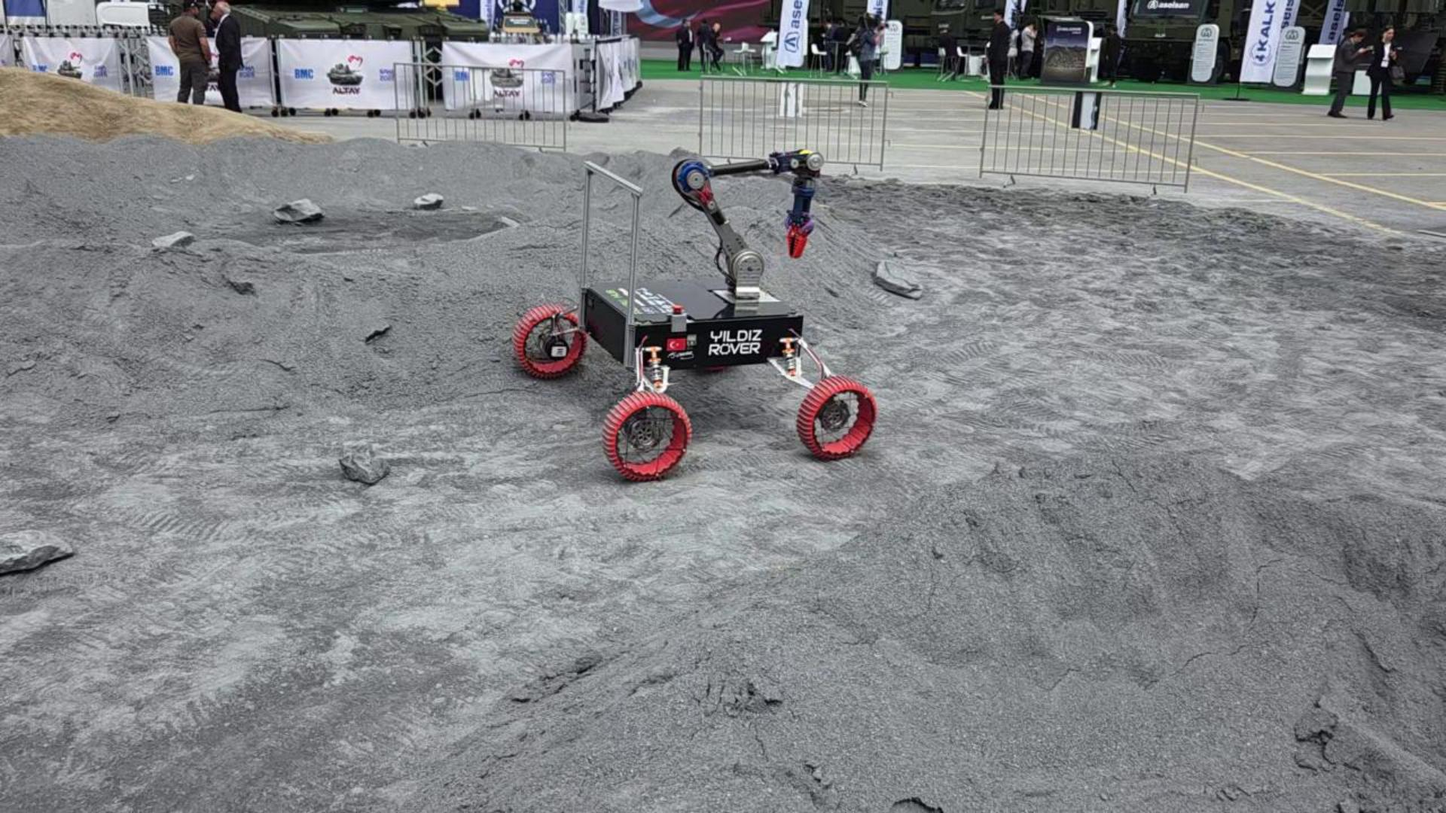rock: (0, 530, 72, 574), (339, 442, 389, 484), (873, 259, 922, 298), (272, 199, 323, 222), (151, 230, 193, 251), (412, 193, 443, 209)
